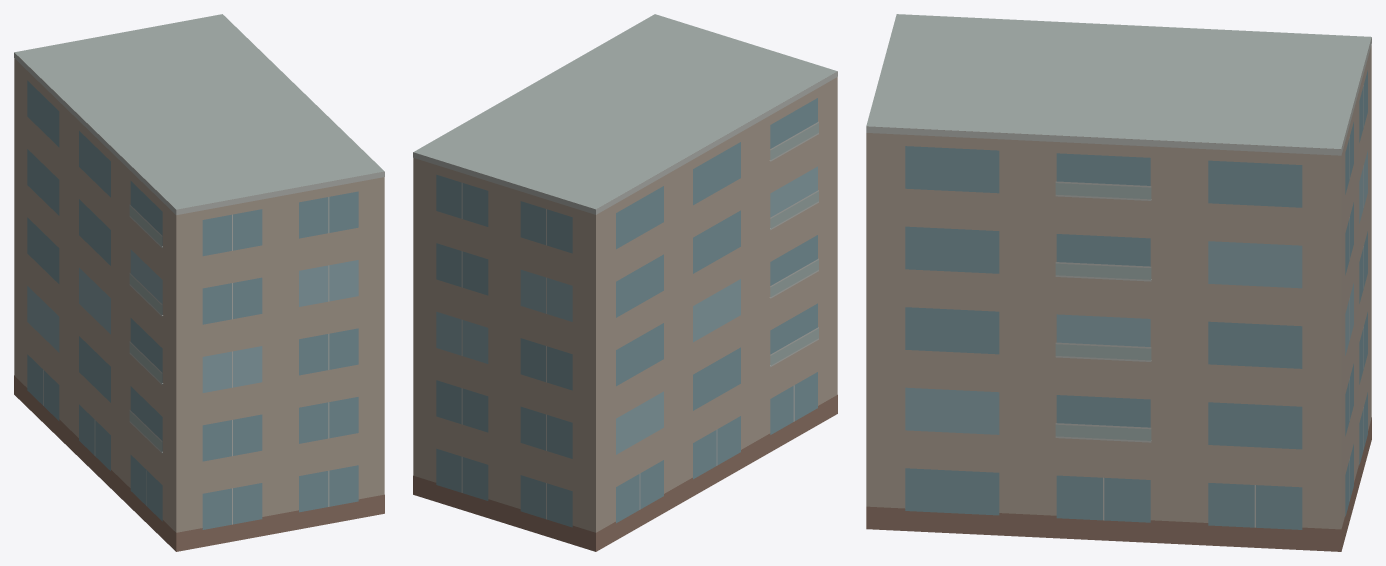
File: survey-upis-32606162.glb
3 renders of one model, left to right at view 1: azimuth 30°, elevation 25°; view 2: azimuth 150°, elevation 25°; view 3: azimuth 270°, elevation 25°, orthographic. The views are drawn at different scales.
Visible parts, largest first — view 1: survey-upis-32606162.tmp; view 2: survey-upis-32606162.tmp; view 3: survey-upis-32606162.tmp.
Part boxes in pixels (x1,y1,x2,y2): survey-upis-32606162.tmp: (14, 14, 384, 551); survey-upis-32606162.tmp: (413, 14, 837, 551); survey-upis-32606162.tmp: (866, 14, 1371, 551).
Size of the model in its own units: 10.88 by 15.1 by 17.19.
